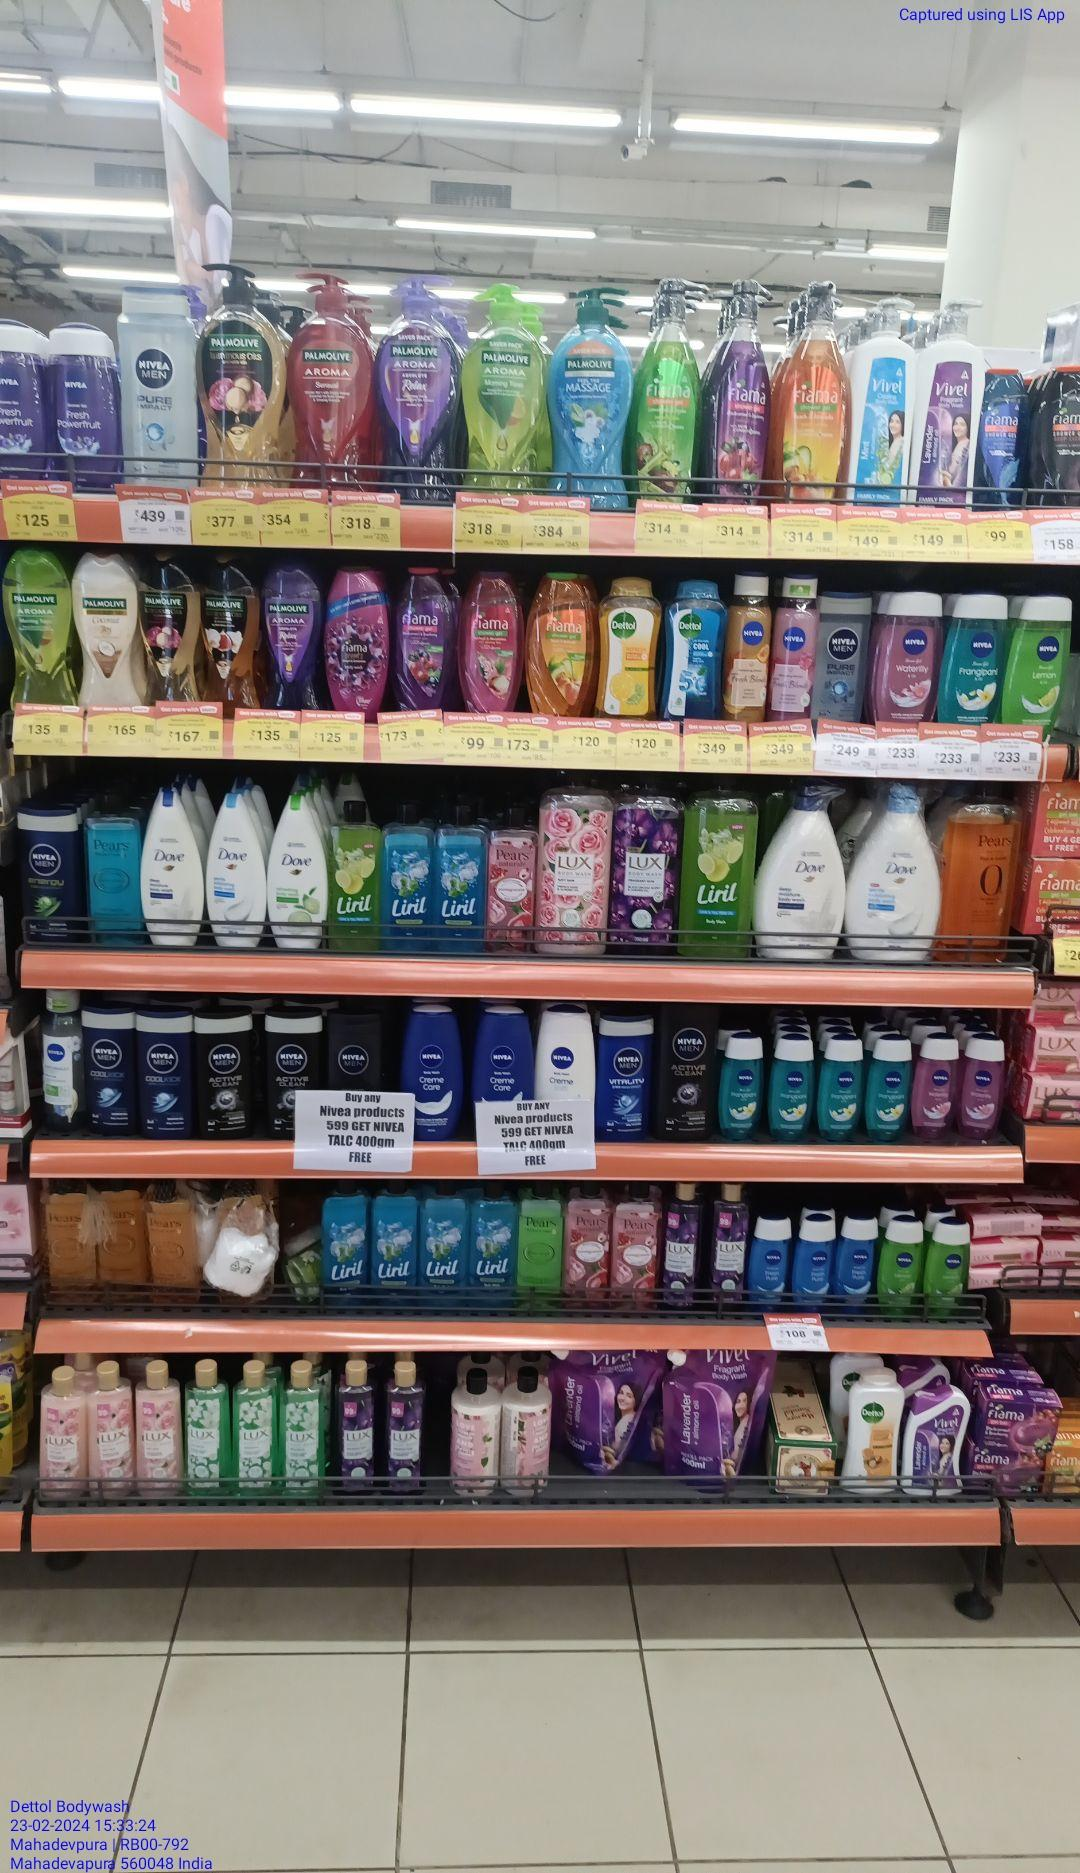Dettol_Bodywash_Cool: (662, 576, 723, 722)
Dettol_Bodywash_Refresh: (595, 576, 657, 719)
Dettol_Nourish_Body_Wash_250ML: (845, 1373, 897, 1491)
Dove_Deep_Moisture_Body_Wash_250ML: (136, 781, 199, 946)
Dove_Gentle_Exfoliating_Body_Wash_250ML: (203, 791, 262, 946)
Dove_Refreshing_Body_Wash_250ML: (265, 792, 327, 949)
Fiama_Shower_Gel_Patchouli_and_Macadamia_250ML: (458, 569, 518, 714)
Fiama_Shower_Gel_Peach_and_Avocado_250ML: (527, 569, 590, 718)
Liril_Cooling_Mint_Body_Wash_250ML: (383, 799, 435, 955), (436, 803, 487, 951), (471, 1180, 519, 1313), (419, 1178, 468, 1306), (370, 1180, 418, 1304), (321, 1183, 369, 1303)
Liril_Lime_and_Tea_Tree_Oil_Body_Wash_250ML: (329, 792, 382, 951)
Lux_Black_Orchid_Scent_and_Juniper_Oil_Body_Wash_245ML: (339, 1360, 379, 1495), (384, 1364, 426, 1492), (663, 1181, 701, 1310), (711, 1183, 747, 1307)
Lux_Body_Wash_Skin_Detox_Freesia_Scent_and_Alove_Vera_245ML: (280, 1366, 329, 1496), (186, 1358, 231, 1496), (235, 1362, 276, 1495)
Nivea_Creme_Care_Body_Wash_250ML: (406, 1009, 462, 1141), (477, 1006, 530, 1101)
Nivea_Creme_Soft_Body_Wash_250ML: (535, 1003, 597, 1102)
Nivea_Shower_Gel_Frangipani_and_Oil_250ML: (941, 590, 999, 723)
Nivea_Shower_Gel_Fresh_Powerfruit_250ML: (46, 322, 121, 482)
Nivea_Shower_Gel_Lemon_and_Oil_250ML: (1000, 594, 1070, 726)
Nivea_Shower_Gel_Waterlily_and_Oil_250ML: (876, 590, 936, 723)
Palmolive_Aroma_Morning_Tonic_Shower_Gel_250ML: (5, 551, 73, 709)
Palmolive_Aroma_Relax_250ML: (262, 561, 320, 711)
Palmolive_Coconut_Joy_Exfoliating_Body_Wash_250ML: (75, 553, 140, 708)
Palmolive_Luminous_Oils_Invigorating_Macadamia_Oil_With_Peony_250ML: (143, 557, 198, 705)
Palmolive_Luminous_Oils_With_White_Orchid_Shower_Gel_250ML: (202, 554, 258, 706)
Pears_Pure_Glycerin_and_Lemon_Flower_Extracts_Body_Wash_250ML: (519, 1180, 566, 1302)
Pears_Pure_Glycerin_and_Mint_Extracts_Body_Wash_250ML: (86, 791, 138, 937)
